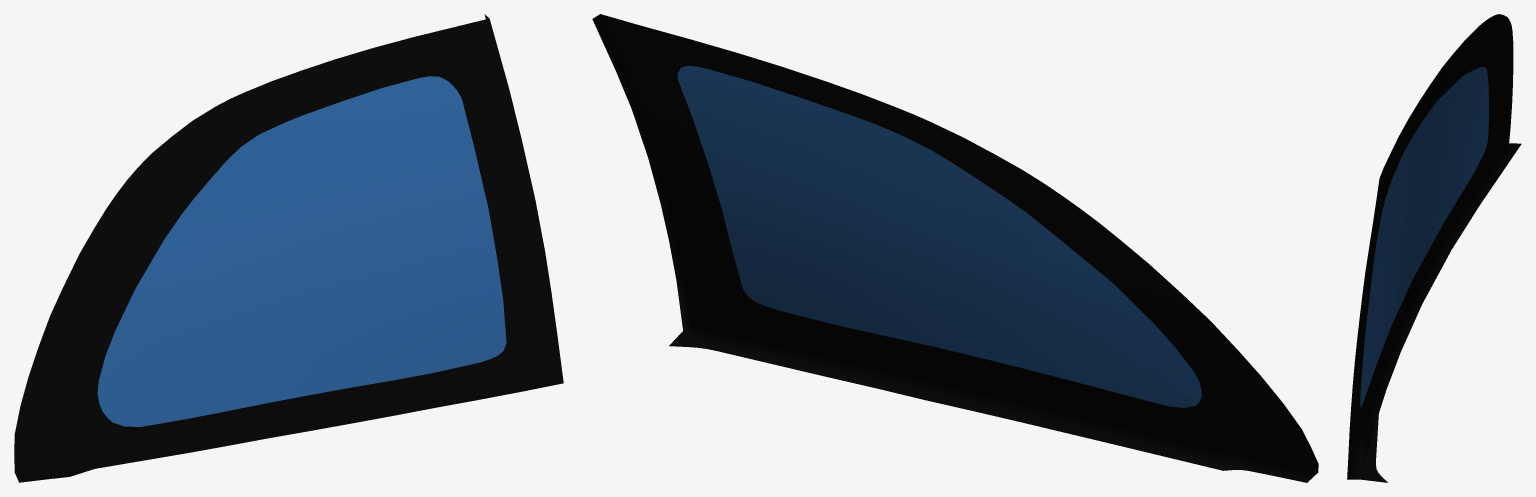
3 renders of one model, left to right at view 1: azimuth 30°, elevation 25°; view 2: azimuth 150°, elevation 25°; view 3: azimuth 270°, elevation 25°, orthographic. The views are drawn at different scales.
Visible parts, largest first — view 1: N664_9A_40SG_R_1_DTaSI_N664_9A_40SG_R, N664_9A_40SG_R_N664_9A_40SG_R_2_DTaSI; view 2: N664_9A_40SG_R_1_DTaSI_N664_9A_40SG_R, N664_9A_40SG_R_N664_9A_40SG_R_2_DTaSI; view 3: N664_9A_40SG_R_N664_9A_40SG_R_2_DTaSI, N664_9A_40SG_R_1_DTaSI_N664_9A_40SG_R.
Part boxes in pixels (x1,y1,x2,y2): N664_9A_40SG_R_1_DTaSI_N664_9A_40SG_R: (97, 76, 506, 426); N664_9A_40SG_R_N664_9A_40SG_R_2_DTaSI: (14, 14, 563, 482); N664_9A_40SG_R_1_DTaSI_N664_9A_40SG_R: (677, 65, 1201, 407); N664_9A_40SG_R_N664_9A_40SG_R_2_DTaSI: (592, 14, 1318, 482); N664_9A_40SG_R_N664_9A_40SG_R_2_DTaSI: (1347, 14, 1521, 482); N664_9A_40SG_R_1_DTaSI_N664_9A_40SG_R: (1360, 67, 1488, 406).
Bounding box in the file's own units: 85.41 × 47.97 × 22.34.
